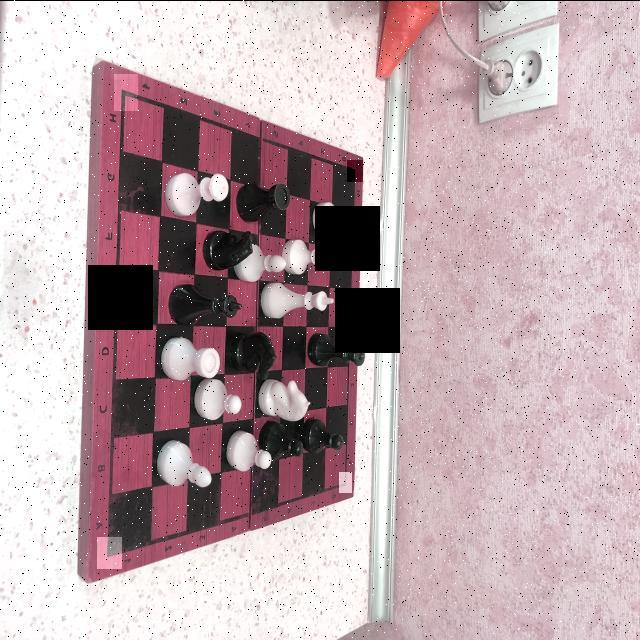chess-table-corners: (114, 73, 138, 110), (97, 536, 122, 568), (347, 159, 363, 181), (339, 471, 352, 492)
